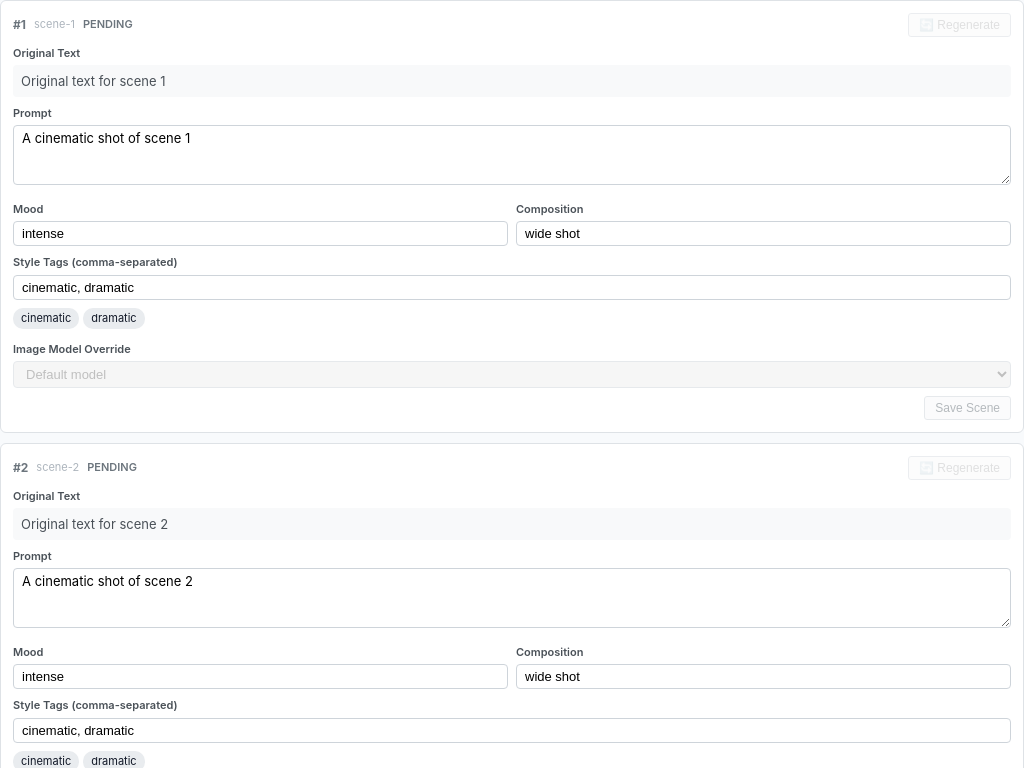
VisualPlanEditor › save button disabled when scene is clean
Expected: the element with test id "scene-scene-1" is shown, [0,0,1023,433]
Expected: the button with test id "scene-scene-1-save" is disabled, [924,396,1011,420]
Step 1. Replace the text in the text box with test id "scene-scene-1-prompt" with "Changed prompt" → (512, 155), box [13,125,1011,185]
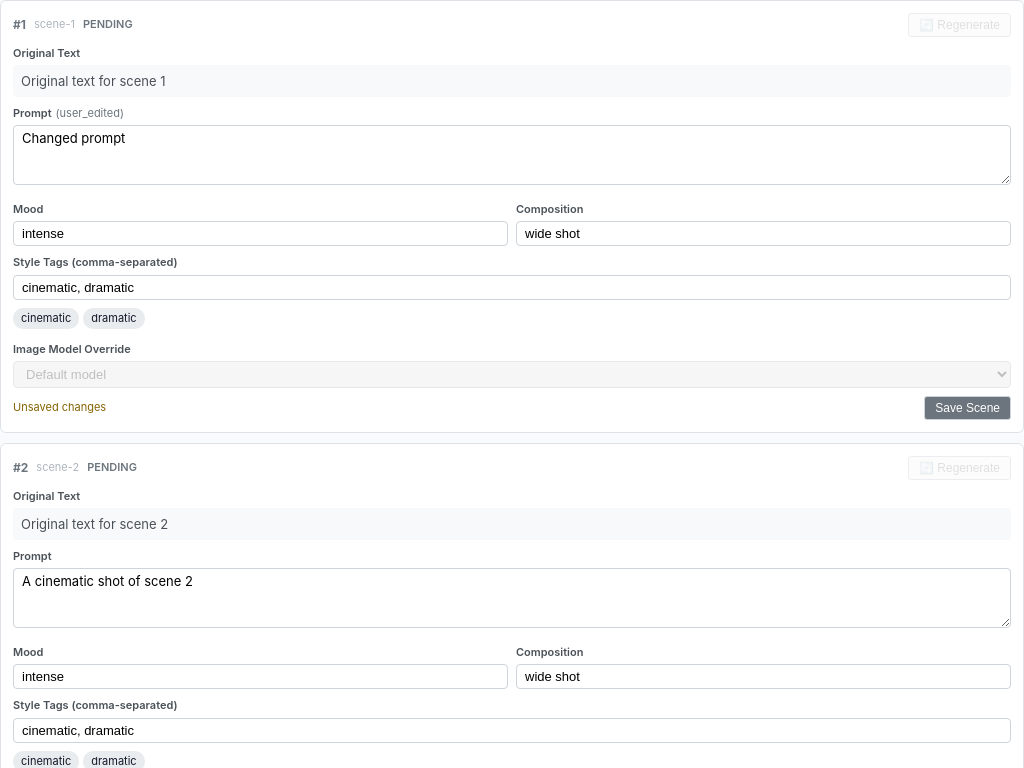
Now the button with test id "scene-scene-1-save" is enabled, box [924,396,1011,420]
